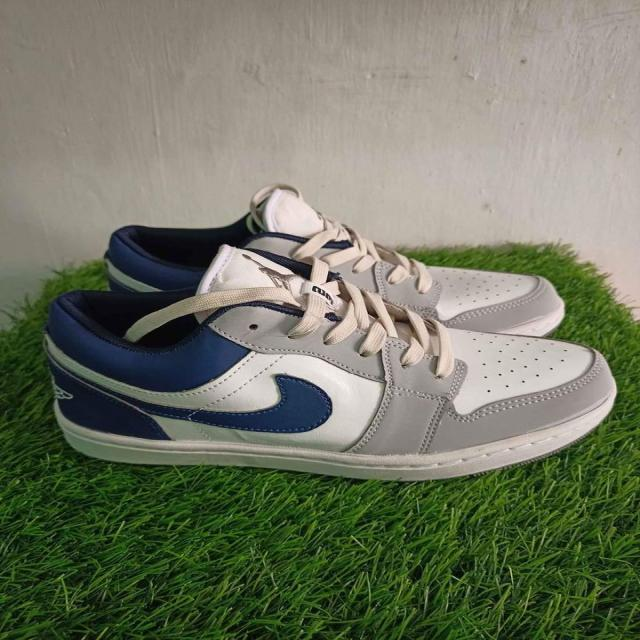nike fake jordan 1: (44, 242, 638, 482), (102, 182, 569, 338)
